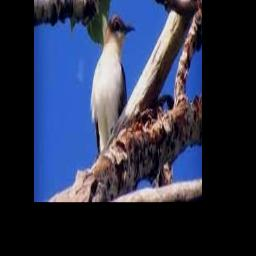Cuckoo: (91, 16, 137, 155)
